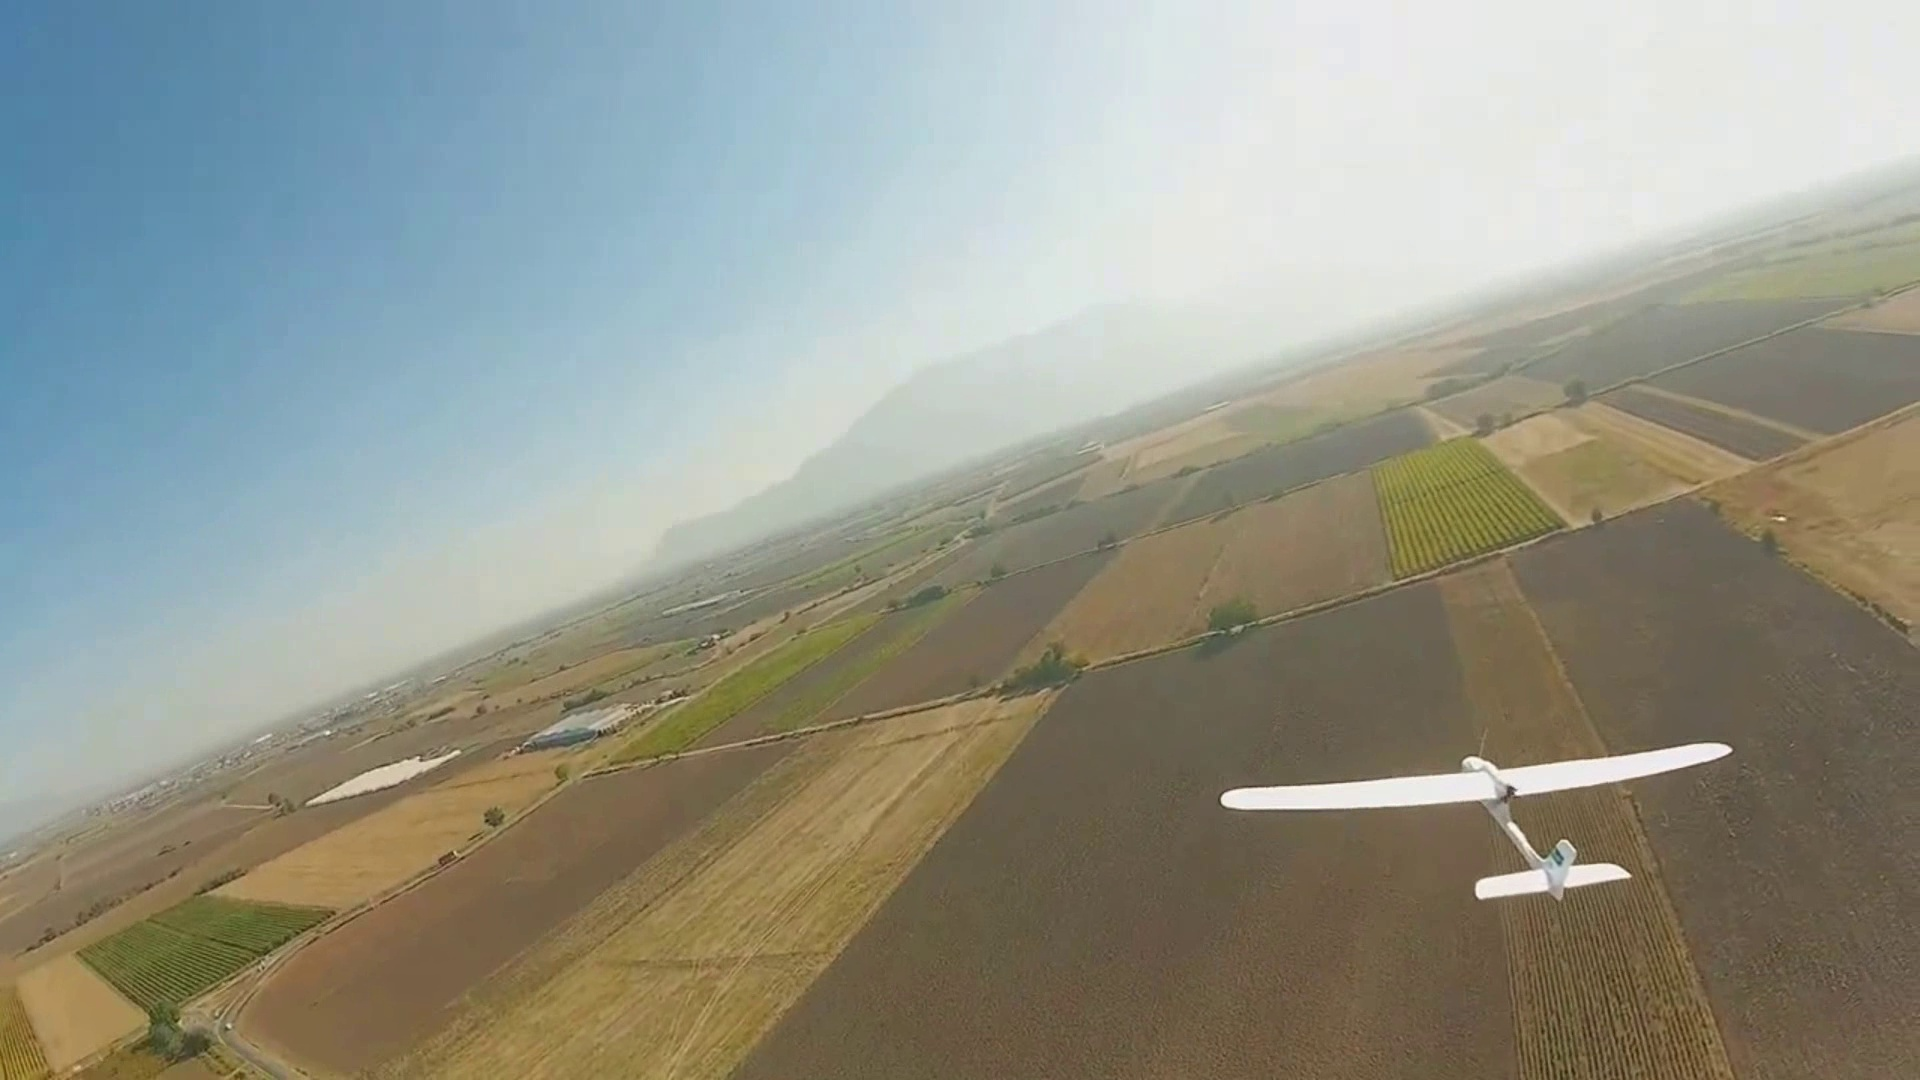airplane: (36, 132, 1920, 1065), (1218, 750, 1731, 901)
